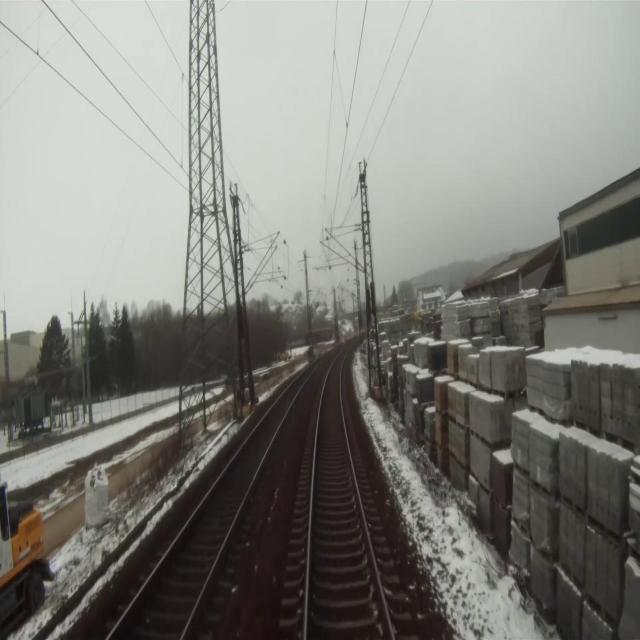rail-track: (112, 360, 319, 639), (306, 349, 391, 639)
